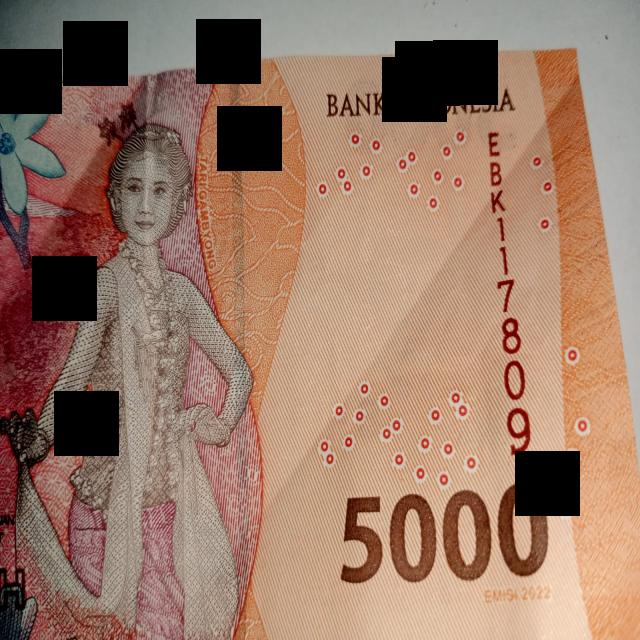lima ribu rupiah: (1, 47, 640, 640)
